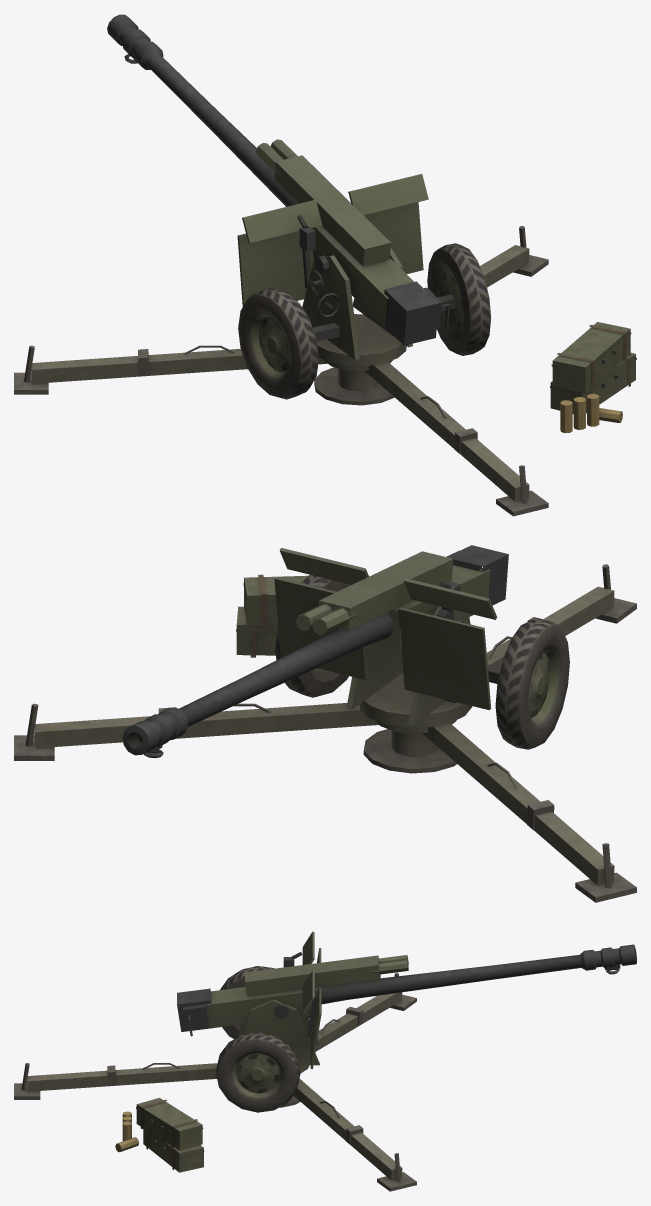
The model's file is artillery.glb.
The picture shows the model from 3 angles, top to bottom: view 1: azimuth 30°, elevation 25°; view 2: azimuth 150°, elevation 25°; view 3: azimuth 270°, elevation 25°; orthographic projection. The views are drawn at different scales.
Visible parts, largest first — view 1: turret, trails, barrel; view 2: turret, trails, barrel; view 3: trails, barrel, turret.
Part boxes in pixels (x1,y1,x2,y2): turret: (237, 174, 491, 399); trails: (14, 226, 636, 516); barrel: (107, 14, 449, 345); turret: (274, 548, 569, 749); trails: (14, 564, 636, 902); barrel: (122, 545, 508, 758); trails: (14, 972, 416, 1191); barrel: (177, 944, 636, 1036); turret: (215, 931, 321, 1112).
Size of the model in its own units: 6.04 by 2.14 by 8.09.
1 material, 1 textured.
